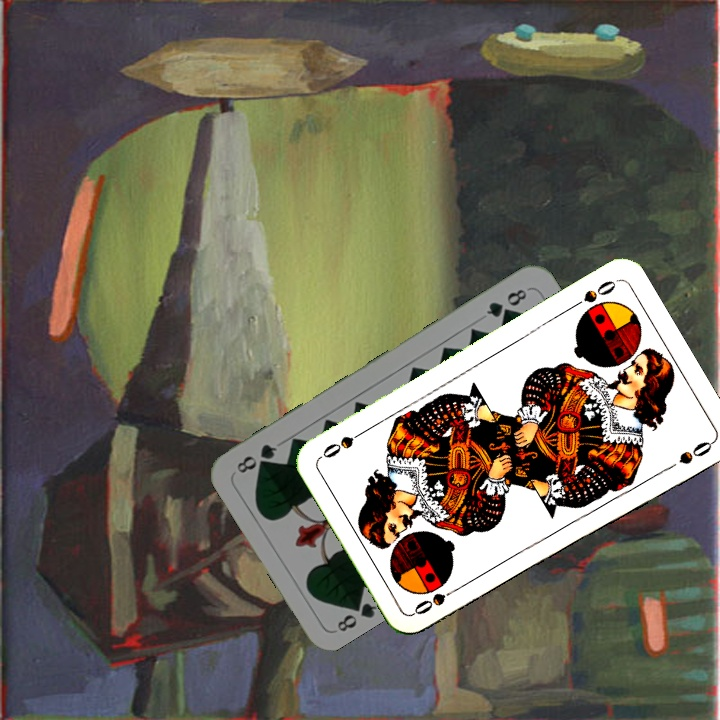G8: (332, 593, 380, 635), (482, 284, 530, 320)
SO: (566, 275, 620, 312), (410, 582, 464, 618)
